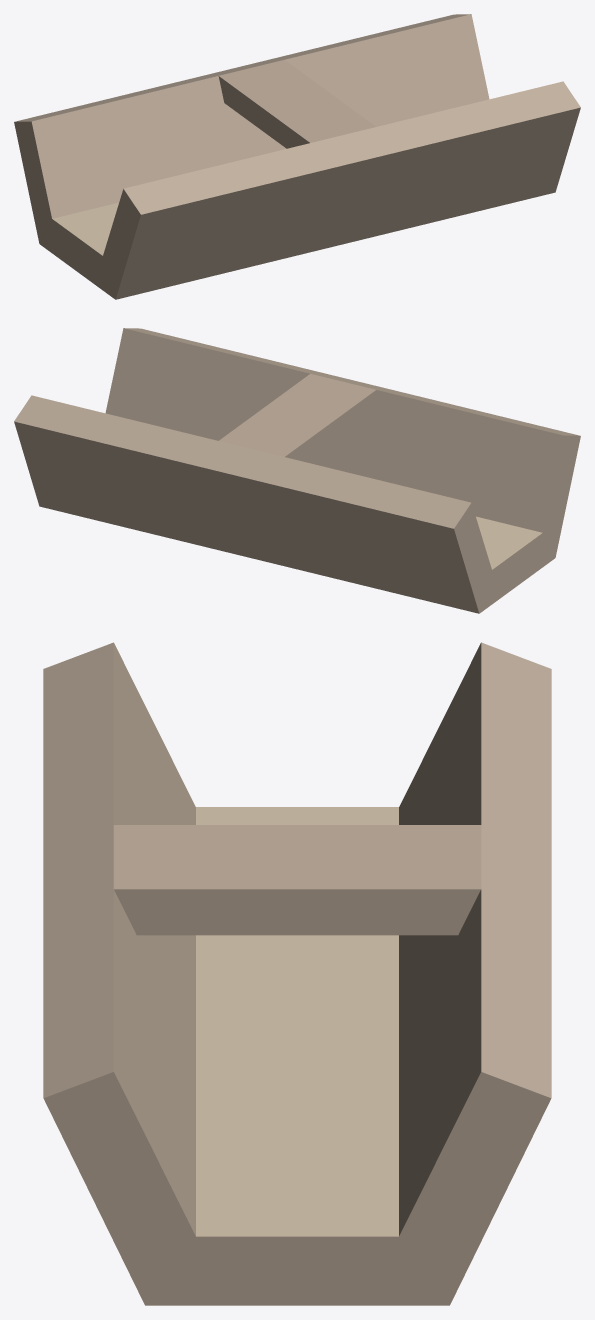
File: Waterwheel_Flume_Straight.glb
3 views of the same model, one above another, from view 1: azimuth 30°, elevation 25°; view 2: azimuth 150°, elevation 25°; view 3: azimuth 270°, elevation 25° (orthographic). The views are drawn at different scales.
Visible parts, largest first — view 1: flume_straight; view 2: flume_straight; view 3: flume_straight.
Part boxes in pixels (x1,y1,x2,y2): flume_straight: (14,14,580,299); flume_straight: (14,328,580,613); flume_straight: (43,642,551,1305).
Size of the model in its own units: 1 by 0.2538 by 0.5.
